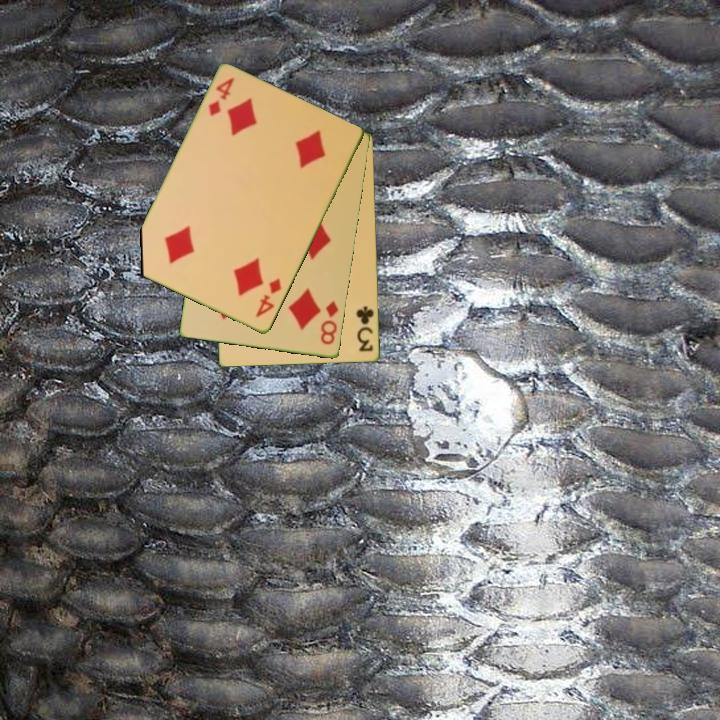3c: (353, 303, 377, 355)
4d: (252, 275, 285, 321), (205, 74, 237, 120)
8d: (317, 297, 341, 348)
